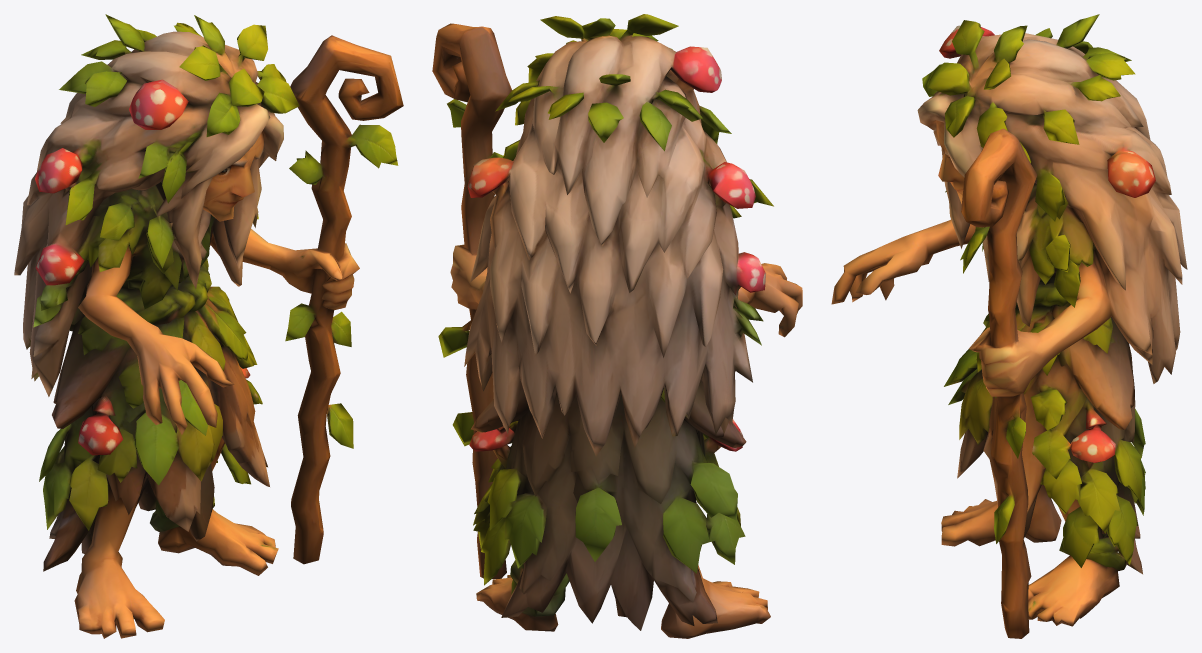
File: forest druid 3d model new style.glb
3 renders of one model, left to right at view 1: azimuth 30°, elevation 25°; view 2: azimuth 150°, elevation 25°; view 3: azimuth 270°, elevation 25°, orthographic. The views are drawn at different scales.
Parts seen in each view (by area): view 1: tripo_node_9fa3fcfb-4d32-4c04-8435-e67a94436152; view 2: tripo_node_9fa3fcfb-4d32-4c04-8435-e67a94436152; view 3: tripo_node_9fa3fcfb-4d32-4c04-8435-e67a94436152.
Part boxes in pixels (x1,y1,x2,y2): tripo_node_9fa3fcfb-4d32-4c04-8435-e67a94436152: (14,14,403,638); tripo_node_9fa3fcfb-4d32-4c04-8435-e67a94436152: (432,14,802,638); tripo_node_9fa3fcfb-4d32-4c04-8435-e67a94436152: (831,14,1187,638).
Bounding box in the file's own units: 0.6292 × 1 × 0.5785.
Materials: 1 (1 with a texture image).
